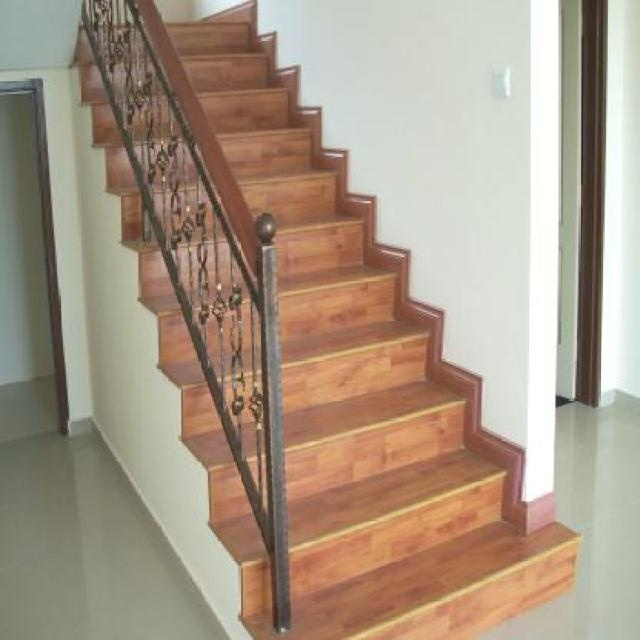stair: (58, 0, 569, 638)
